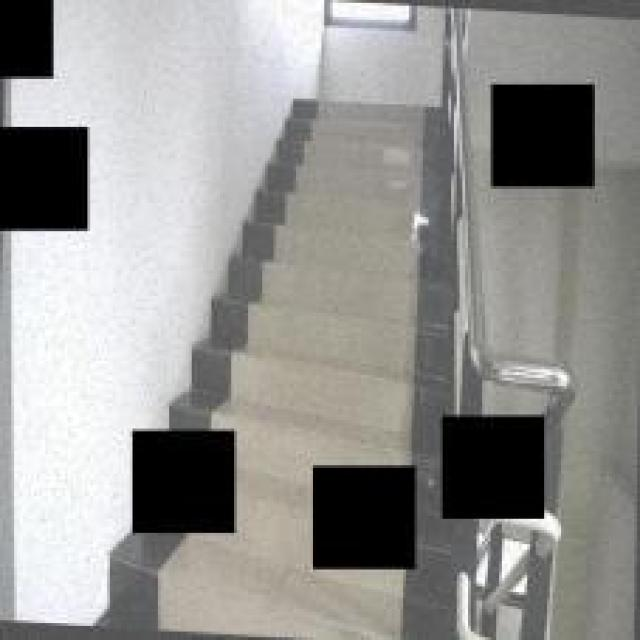upstair: (278, 159, 447, 427)
